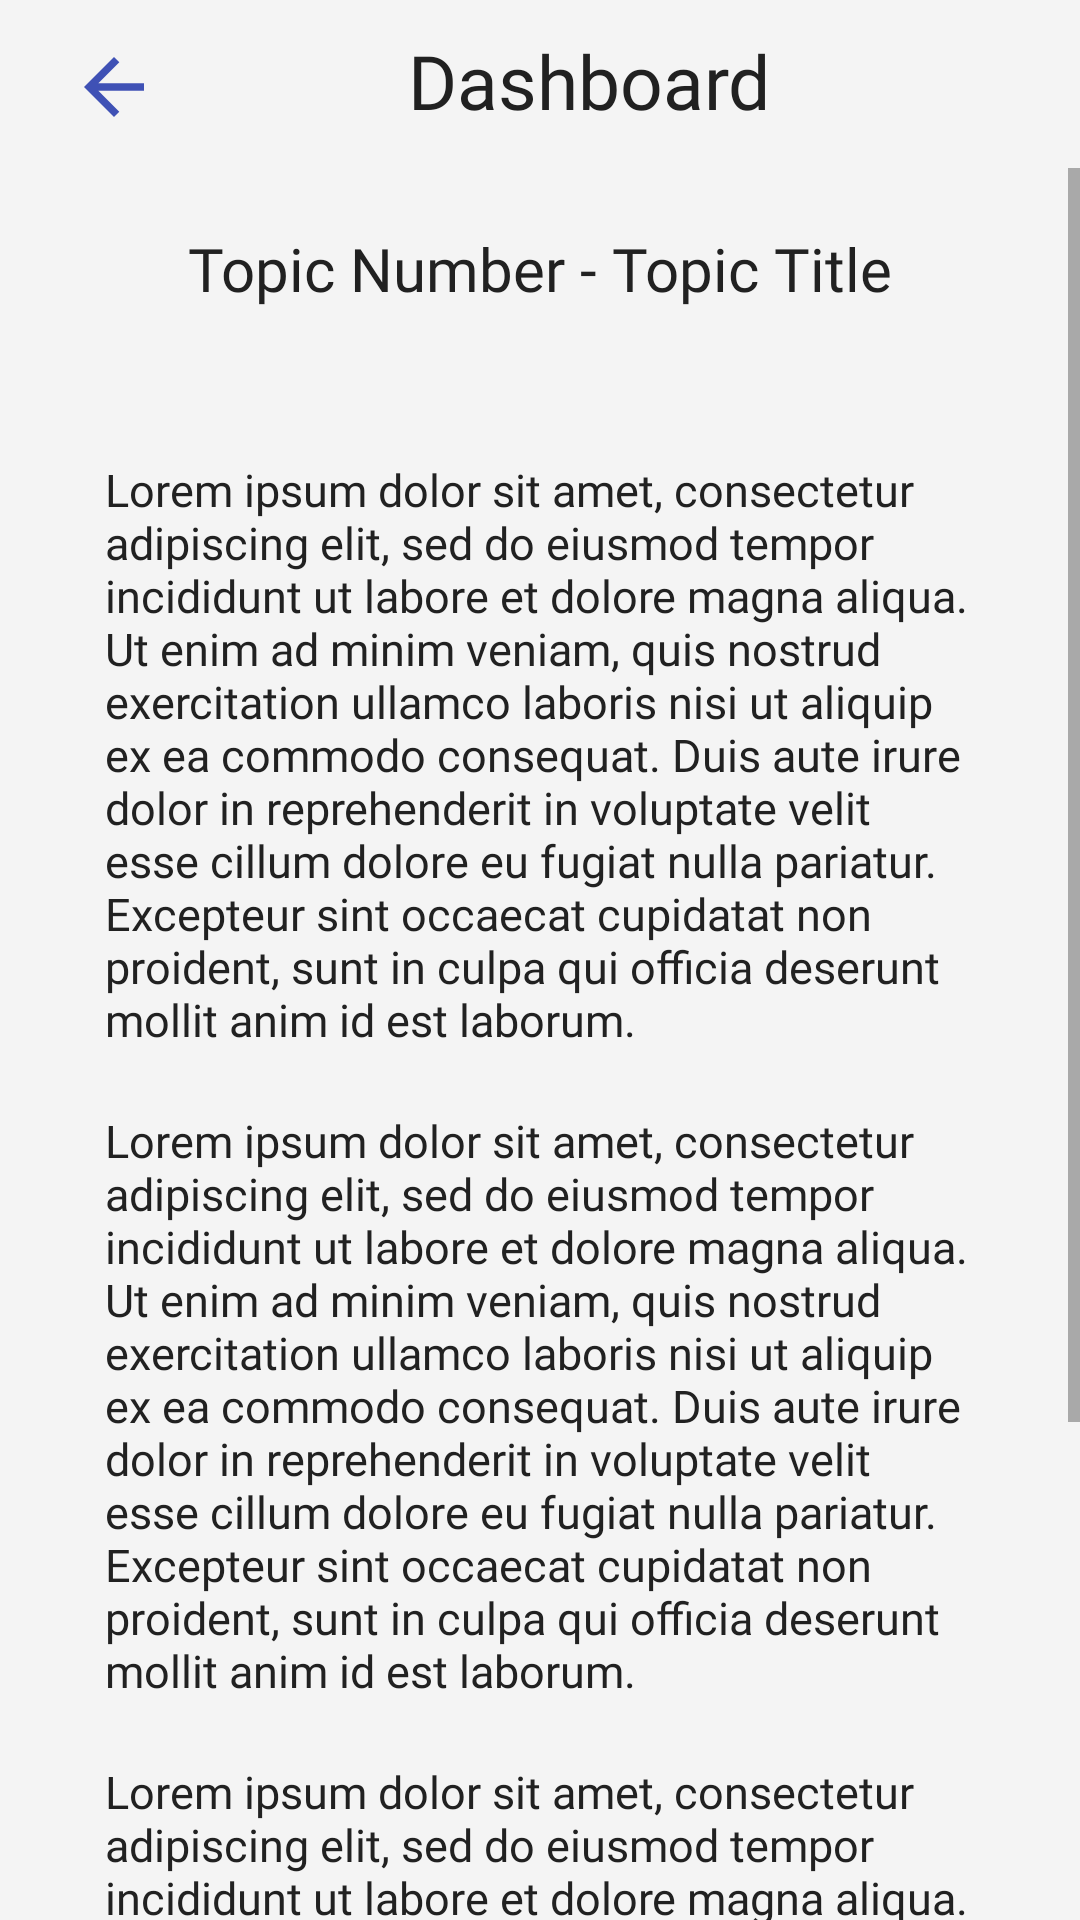

Where to tap for icons on this 1080×1920 app screen, as [x,y]:
arrow back: [114,87]
